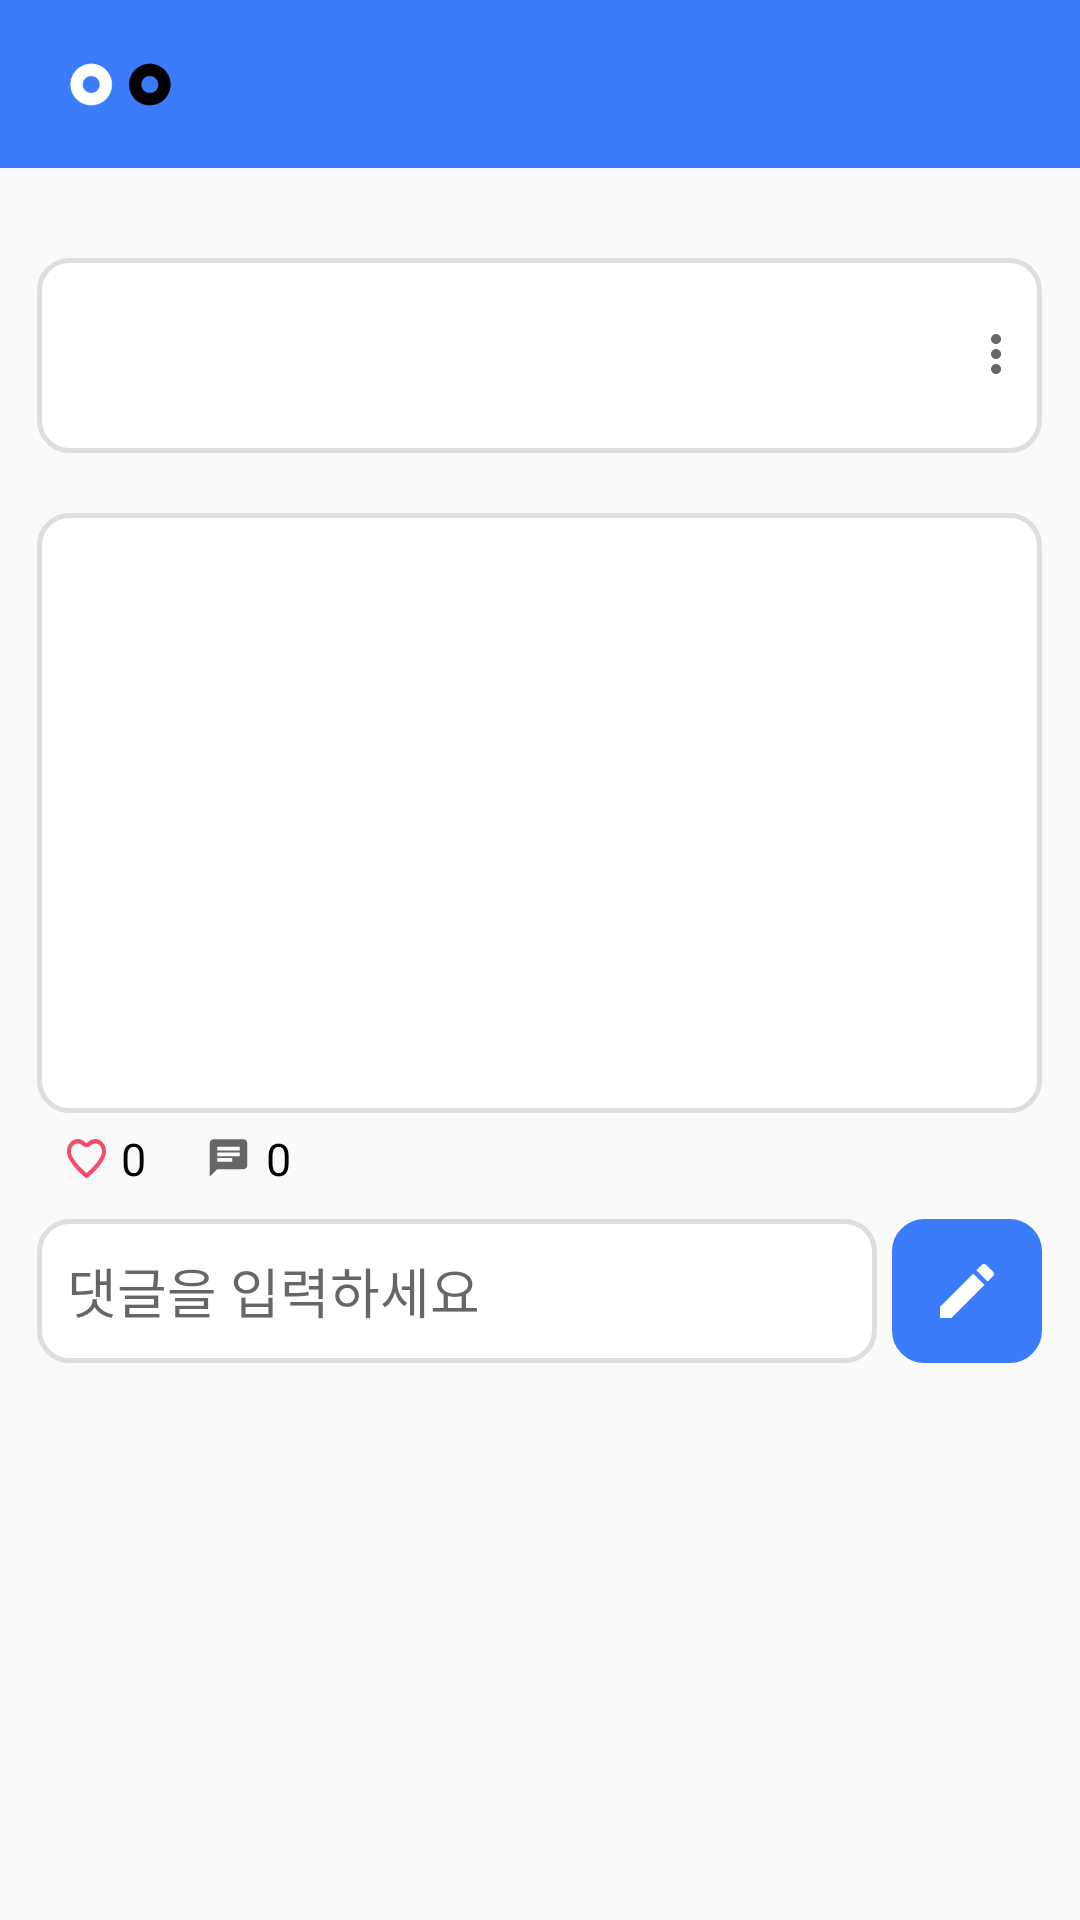

Named icons in this screenshot (1080 x 1920) and their bounding boxes, (x1, y1, x2, y2):
comment: (209, 1139, 248, 1176)
heart: (67, 1139, 106, 1178)
write: (892, 1219, 1042, 1363)
